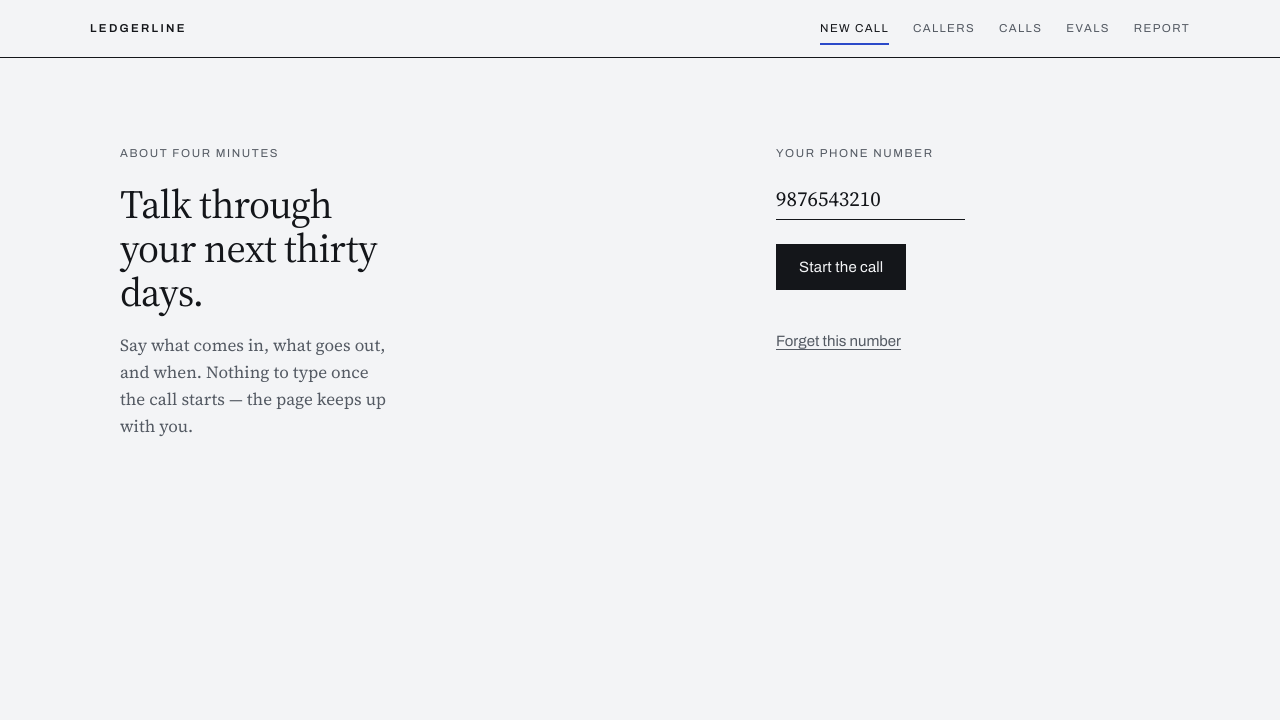
the Start control while a call is coming up › shows the 409 sentence and re-enables the button so the user can end and retry
Step 1. Click the button "Start the call" → (841, 267), box [776, 244, 906, 290]
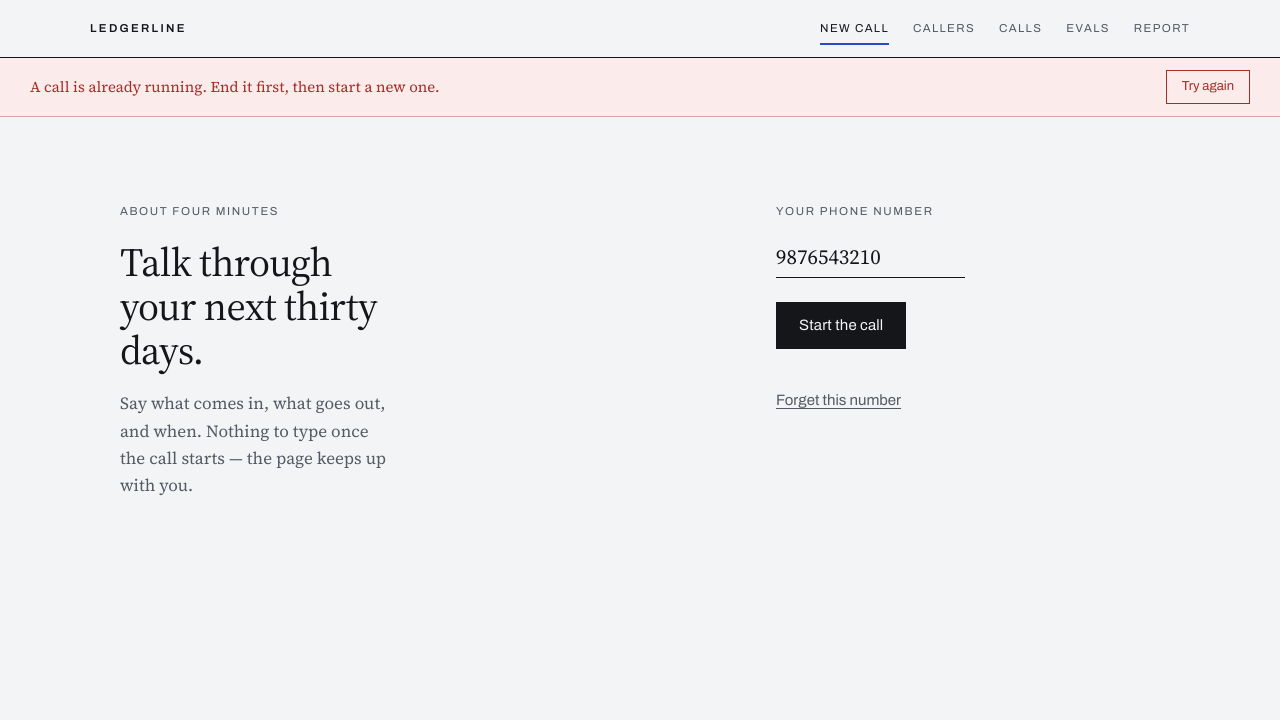
Expected: the button "Start the call" is enabled, [776, 302, 906, 349]
Result: the message shows "A call is already running" at [30, 76, 440, 97]
